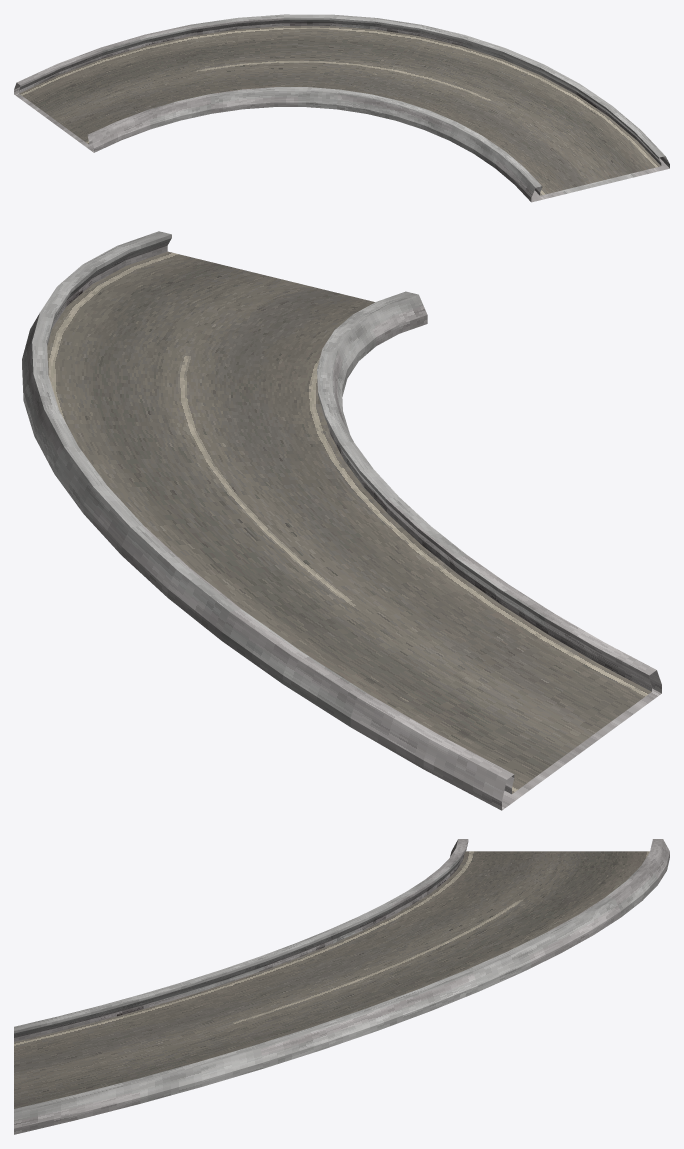
Rendered from turn-left3x3.glb.
The picture shows the model from 3 angles, top to bottom: view 1: azimuth 30°, elevation 25°; view 2: azimuth 150°, elevation 25°; view 3: azimuth 270°, elevation 25°; orthographic projection. The views are drawn at different scales.
Parts seen in each view (by area): view 1: road-Turn-BiSlopeUp-BiSlopeDown-Even-Left-Size3; view 2: road-Turn-BiSlopeUp-BiSlopeDown-Even-Left-Size3; view 3: road-Turn-BiSlopeUp-BiSlopeDown-Even-Left-Size3.
Part boxes in pixels (left/top/right/bottom): road-Turn-BiSlopeUp-BiSlopeDown-Even-Left-Size3: left=14, top=14, right=669, bottom=202; road-Turn-BiSlopeUp-BiSlopeDown-Even-Left-Size3: left=22, top=231, right=661, bottom=810; road-Turn-BiSlopeUp-BiSlopeDown-Even-Left-Size3: left=14, top=839, right=669, bottom=1134.
Size of the model in its own units: 3 by 0.4011 by 3.
Materials: 2 (2 with a texture image).
